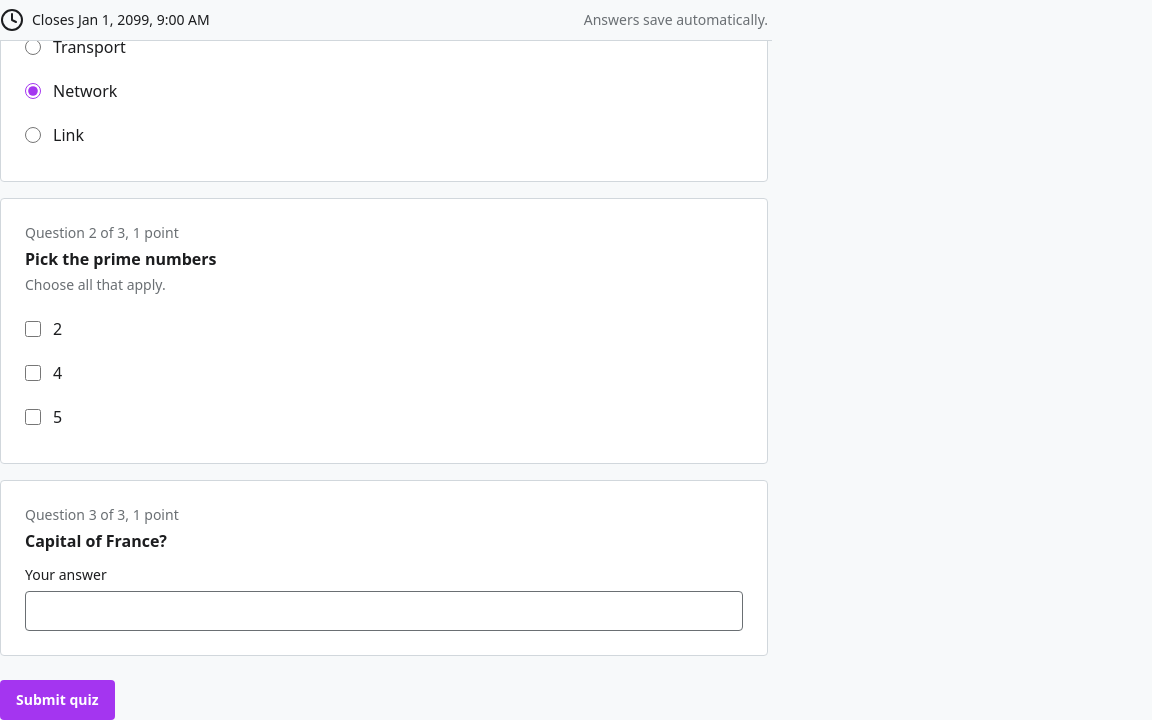
Scenario: Submit quiz confirms, sends submit:true once and shows the results with focus
(page scrolled)
Click the button "Submit quiz" at (57, 700), box [0,680,115,719]
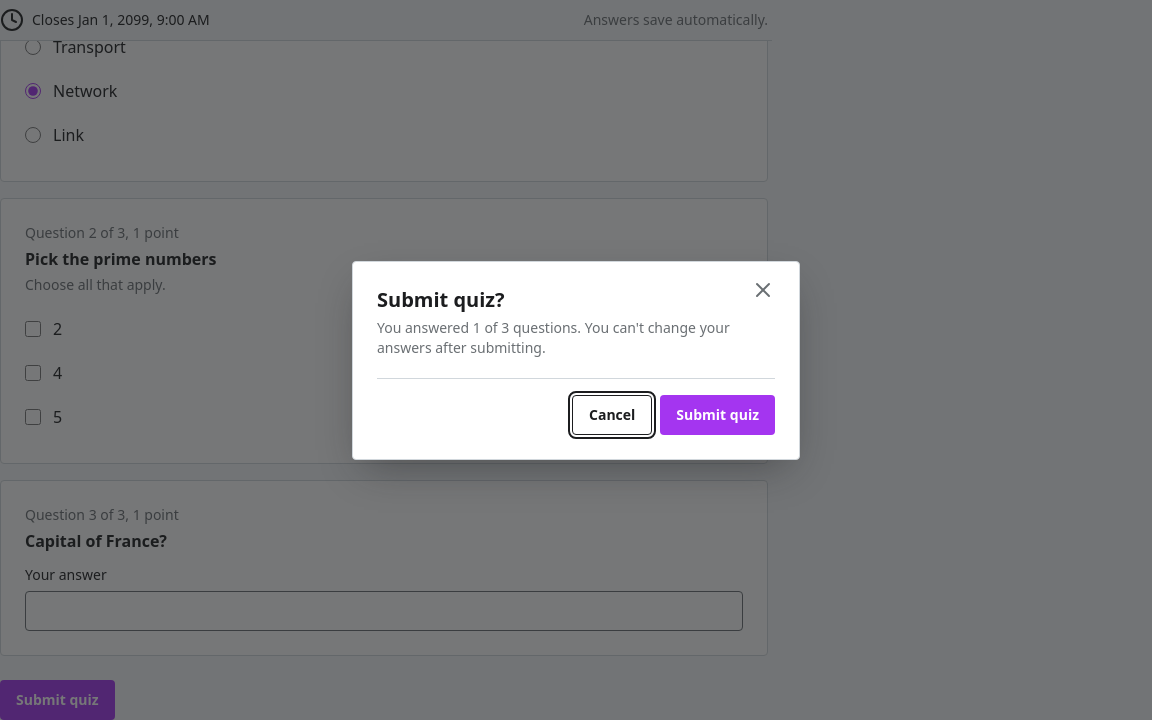
Expected: the dialog "Submit quiz?" shows "You answered 1 of 3 questions.", [377,318,730,356]
Click the button "Submit quiz" below "Submit quiz?" at (718, 414), box [660,394,775,434]
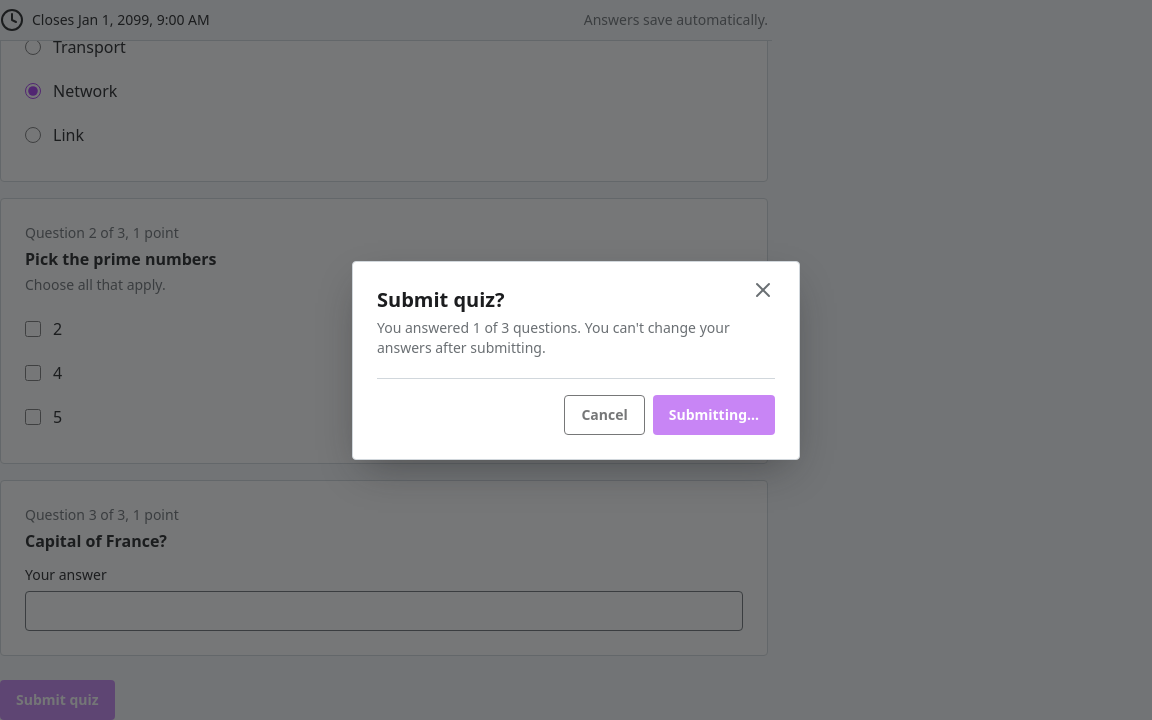
Click the button named "Submit quiz" at (714, 414), box [653,394,775,434]
(page scrolled)
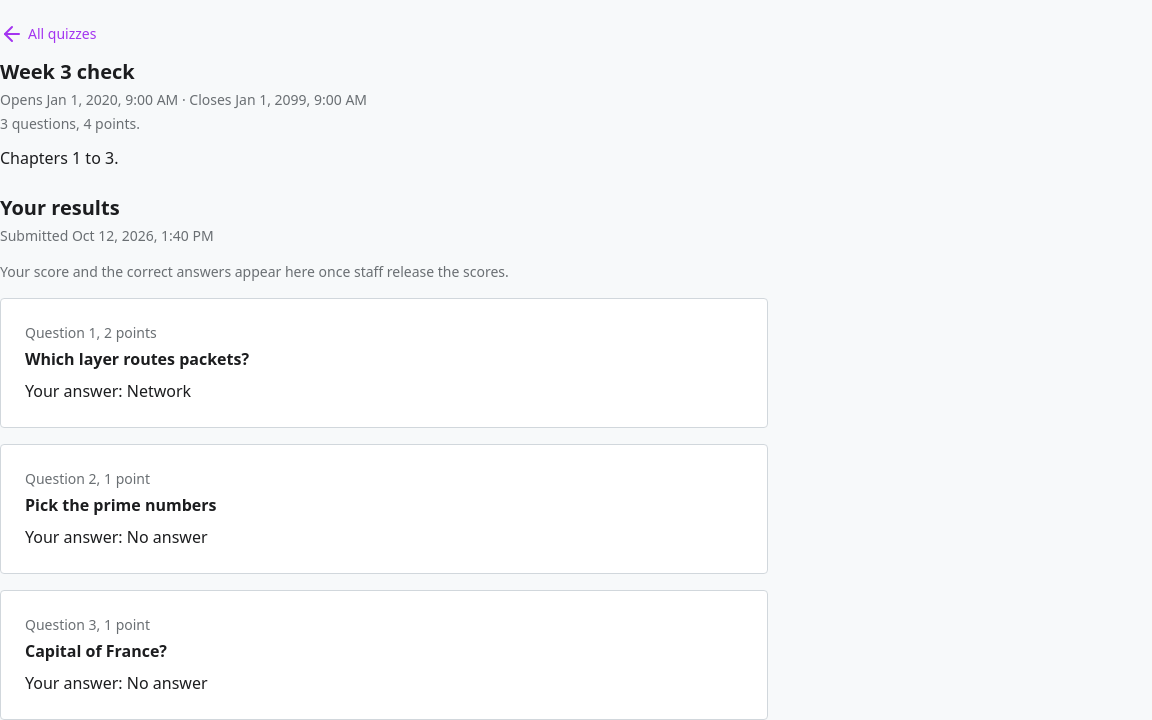
Expected: the text "Submitted Oct 12, 2026, 1:40 PM" is shown, [0,226,214,245]
